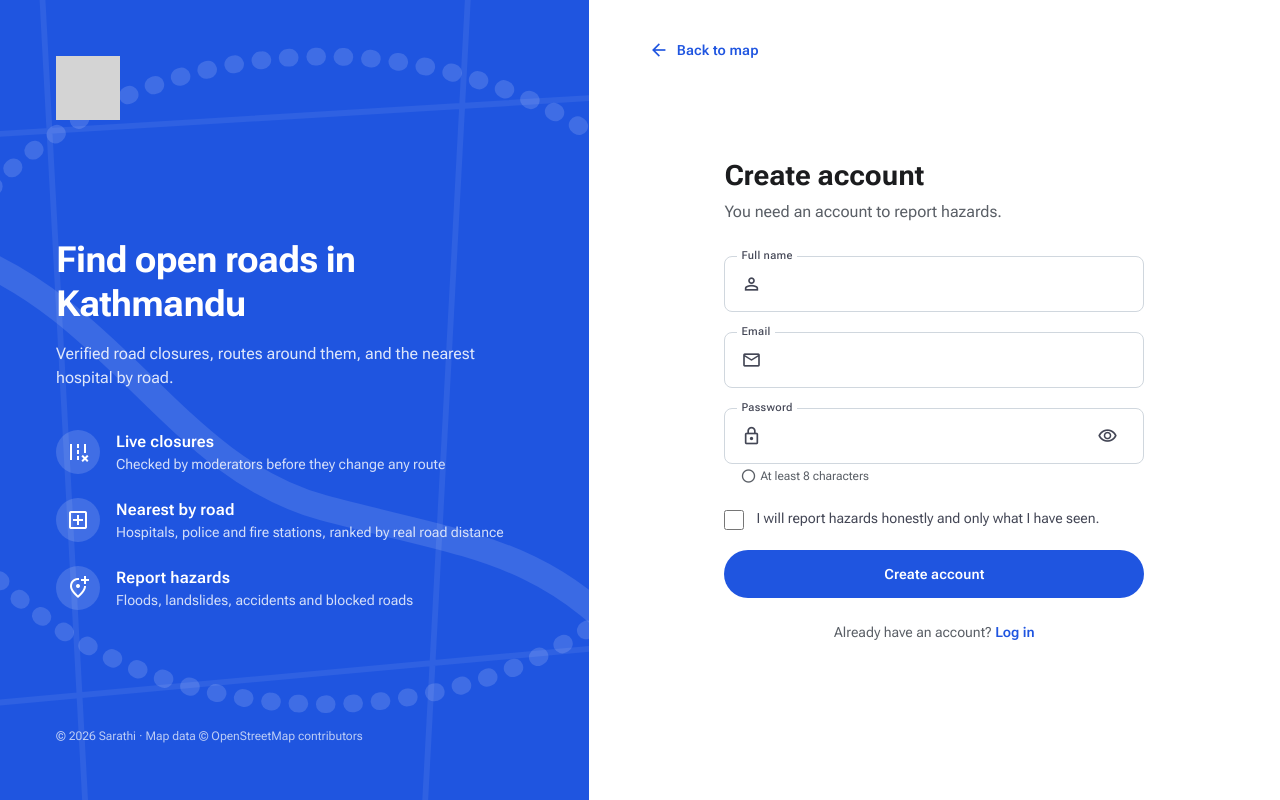
Test case: sign up › shows the server's password rule next to the password
Type "Ramesh Karki" into the field labelled "Full name".
click(950, 284); type("Ramesh Karki")  # box left=773, top=257, right=1127, bottom=311
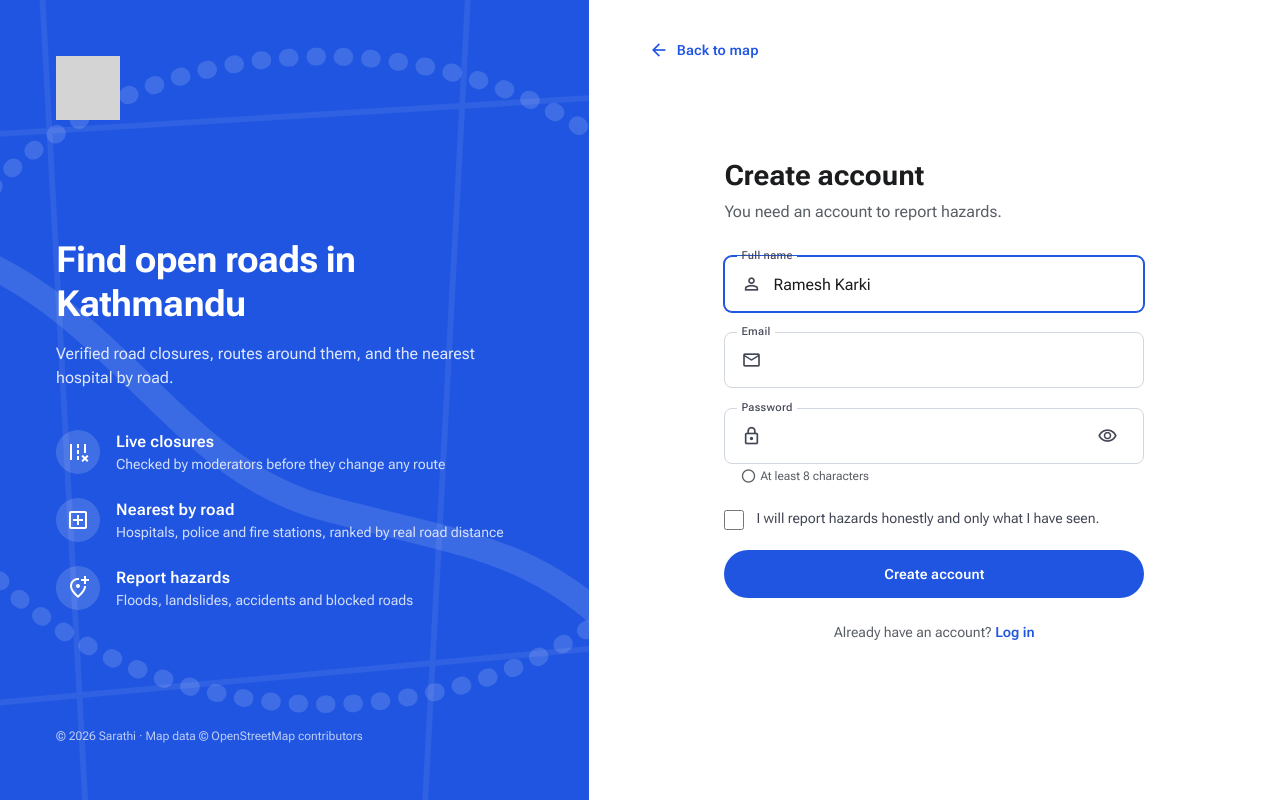
Type "ramesh.k@example.com" into the field labelled "Email".
click(950, 360); type("ramesh.k@example.com")  # box left=773, top=333, right=1127, bottom=387
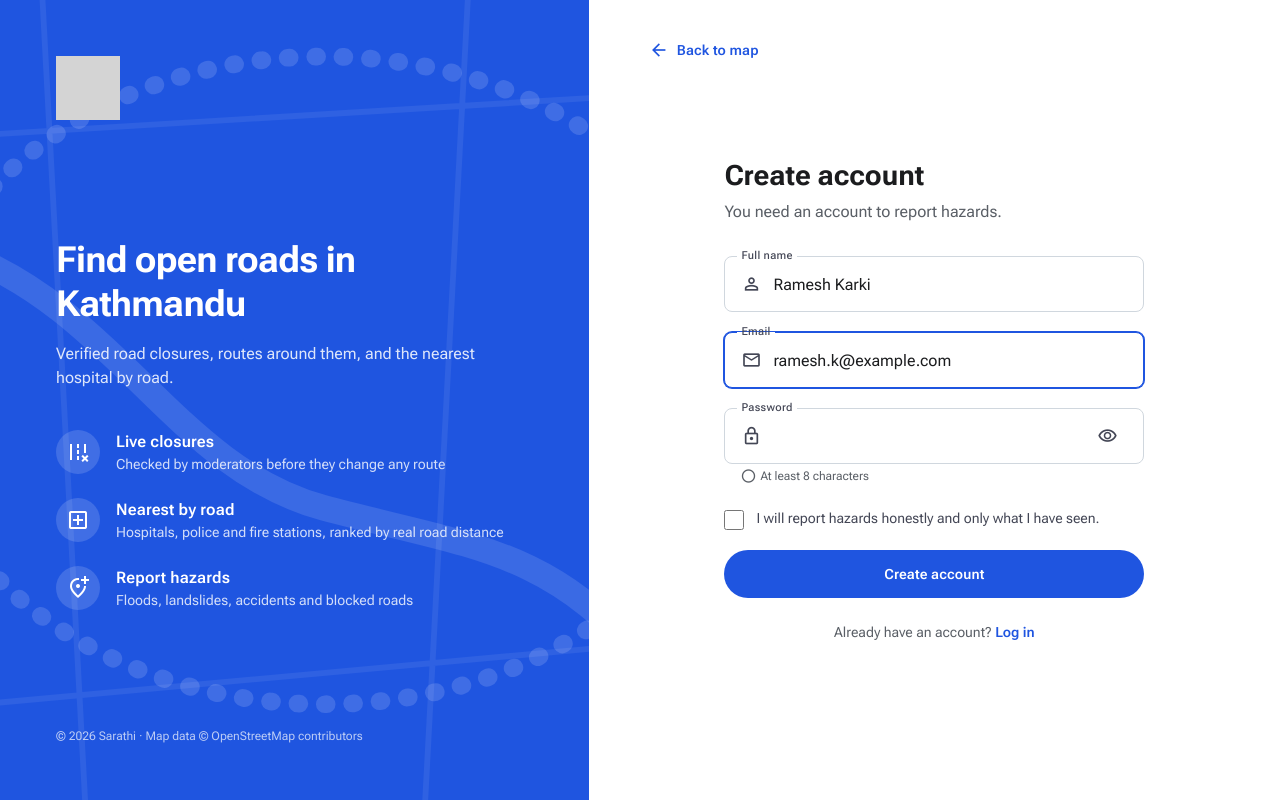
Type "password1" into the password field labelled "Password".
click(924, 436); type("password1")  # box left=773, top=409, right=1075, bottom=463
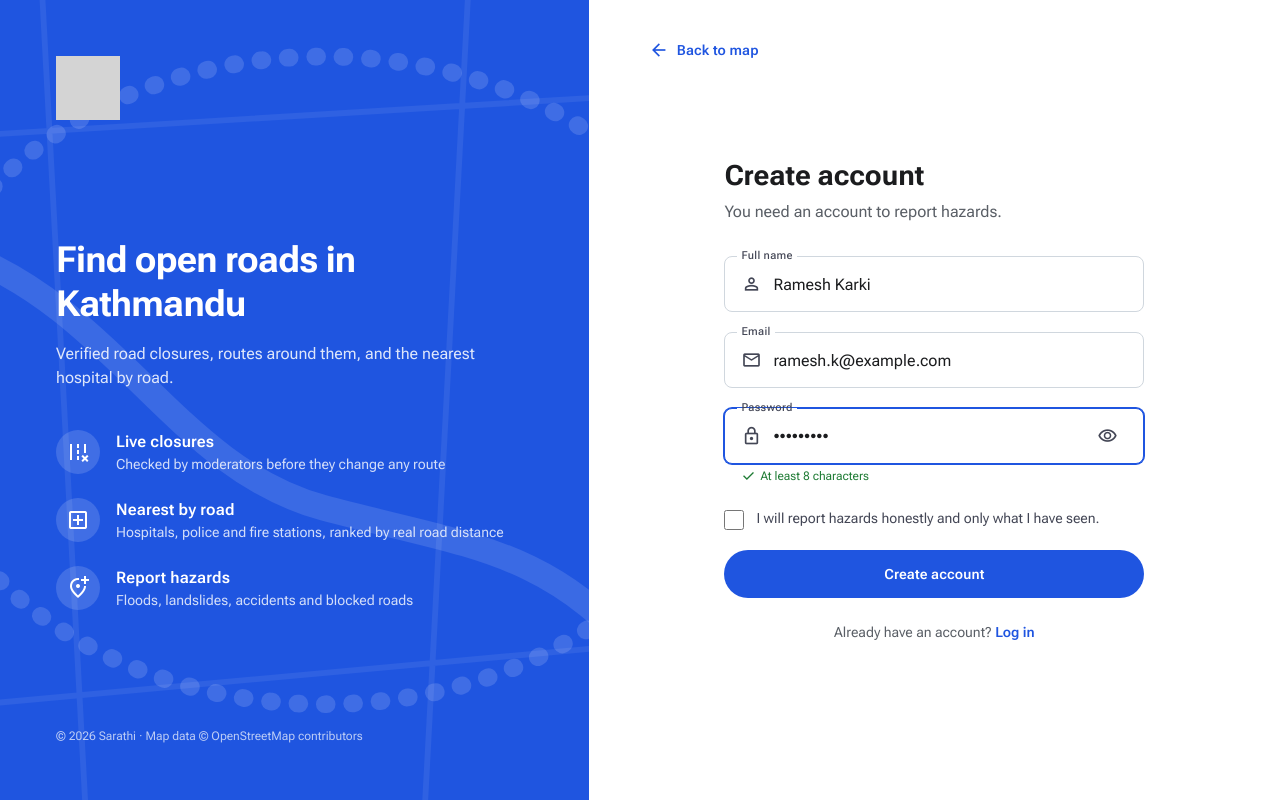
Click the checkbox.
click(734, 520)  # box left=724, top=510, right=744, bottom=530
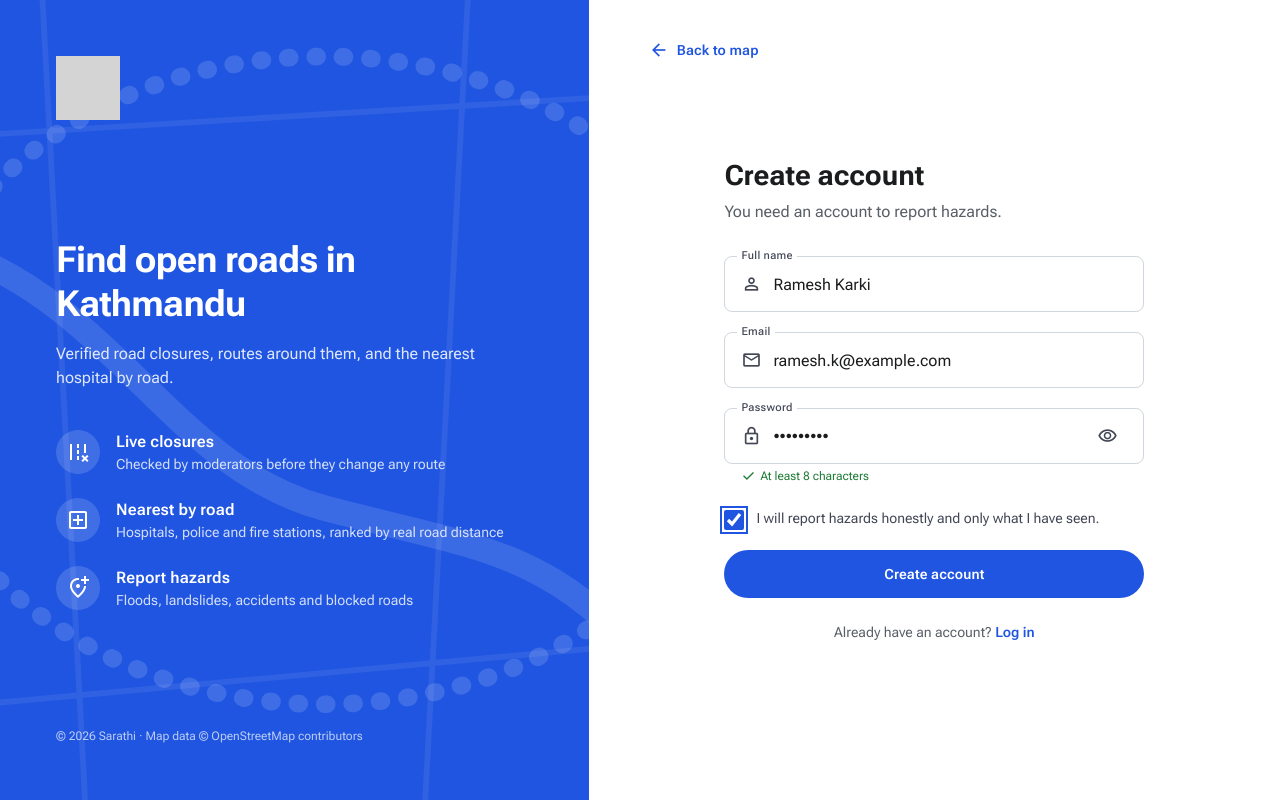
Click the button "Create account".
click(934, 574)  # box left=724, top=550, right=1144, bottom=598
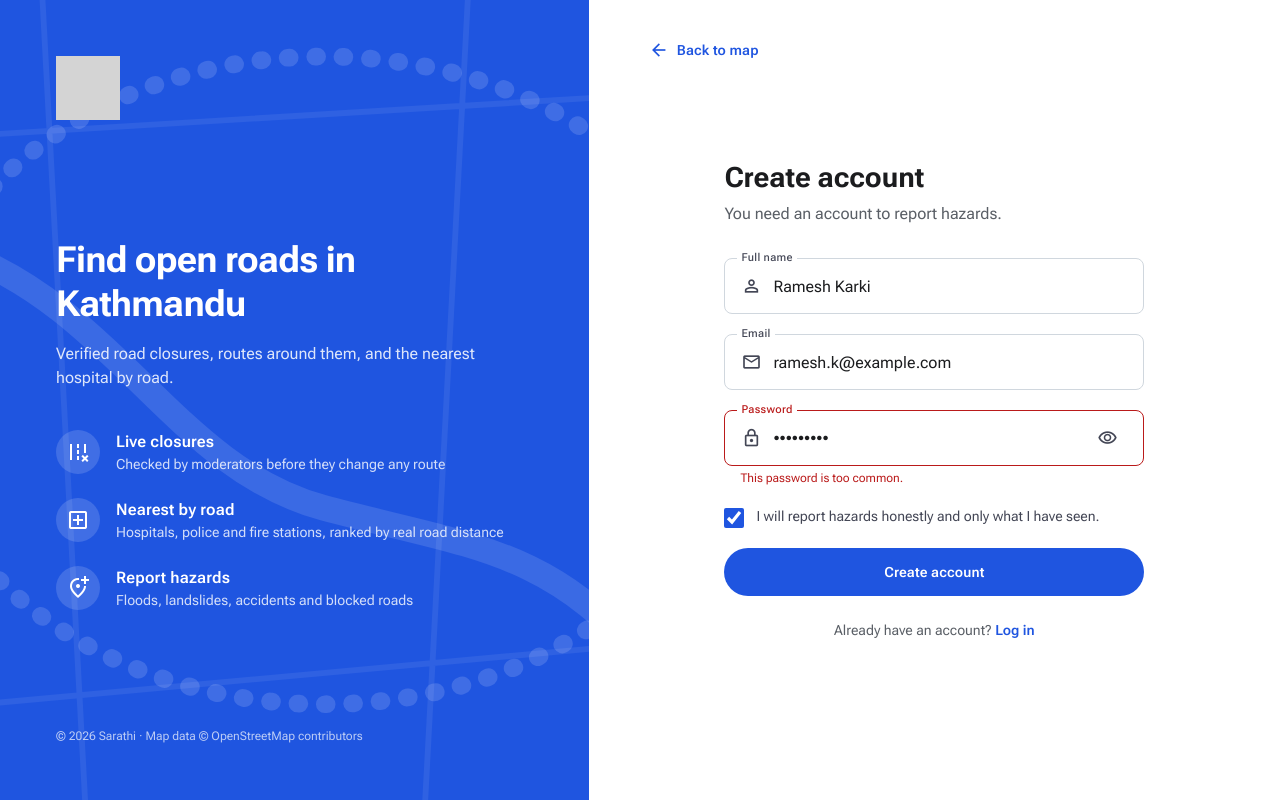
Now the text "This password is too common." is shown, box left=740, top=471, right=903, bottom=485
